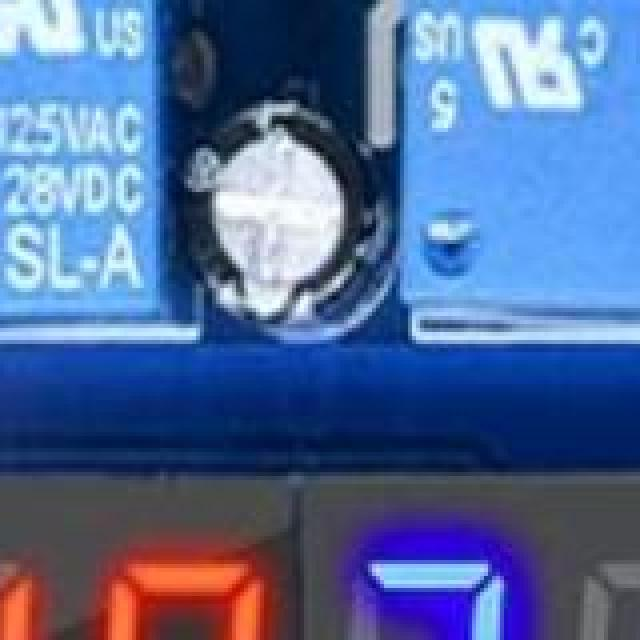capacitor: (164, 96, 394, 372)
display: (308, 456, 640, 640), (0, 452, 292, 640)
relay: (400, 0, 640, 344), (0, 0, 172, 316)
